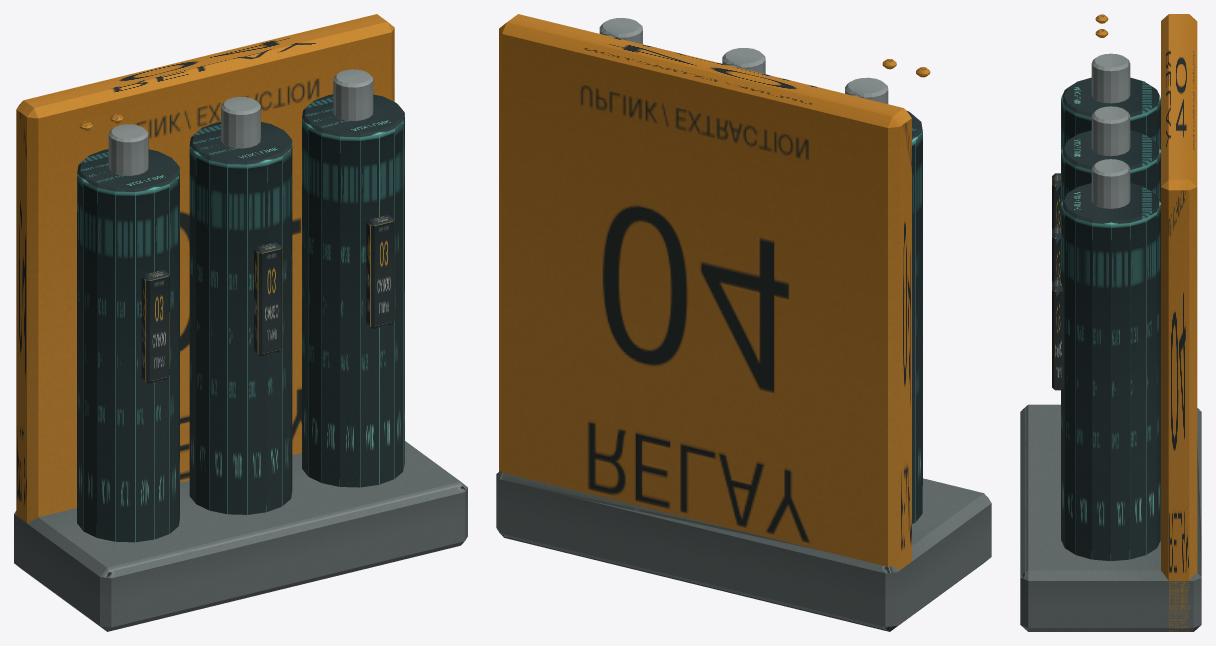
Rendered from oxygen_rack_LOD0.obj.
The picture shows the model from 3 angles, left to right: view 1: azimuth 30°, elevation 25°; view 2: azimuth 150°, elevation 25°; view 3: azimuth 270°, elevation 25°; orthographic projection. The views are drawn at different scales.
Visible parts, largest first — view 1: L02_oxygen_rack_LOD0; view 2: L02_oxygen_rack_LOD0; view 3: L02_oxygen_rack_LOD0.
Part boxes in pixels (x1,y1,x2,y2): L02_oxygen_rack_LOD0: (14, 14, 467, 631); L02_oxygen_rack_LOD0: (496, 14, 991, 631); L02_oxygen_rack_LOD0: (1020, 14, 1201, 631).
Bounding box in the file's own units: 1.8 × 2.23 × 0.8.
1 material, 1 textured.
